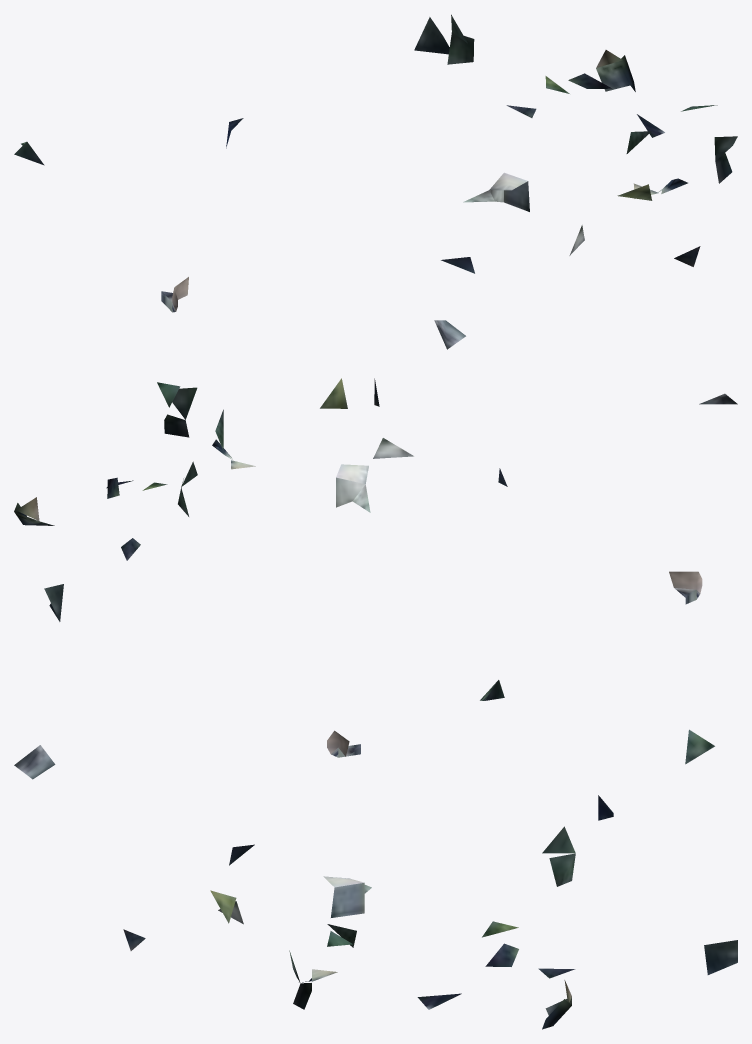
3 views of the same model, one above another, from view 1: azimuth 30°, elevation 25°; view 2: azimuth 150°, elevation 25°; view 3: azimuth 270°, elevation 25° (orthographic). The views are drawn at different scales.
Visible parts, largest first — view 1: 304362727043616274_1; view 2: 304362727043616274_1; view 3: 304362727043616274_1.
Part boxes in pixels (box(x1,y1,x2,y2)): 304362727043616274_1: box(14, 14, 737, 349); 304362727043616274_1: box(14, 378, 737, 700); 304362727043616274_1: box(14, 729, 737, 1029).
Bounding box in the file's own units: 109 × 22.81 × 118.
Materials: 1 (1 with a texture image).
